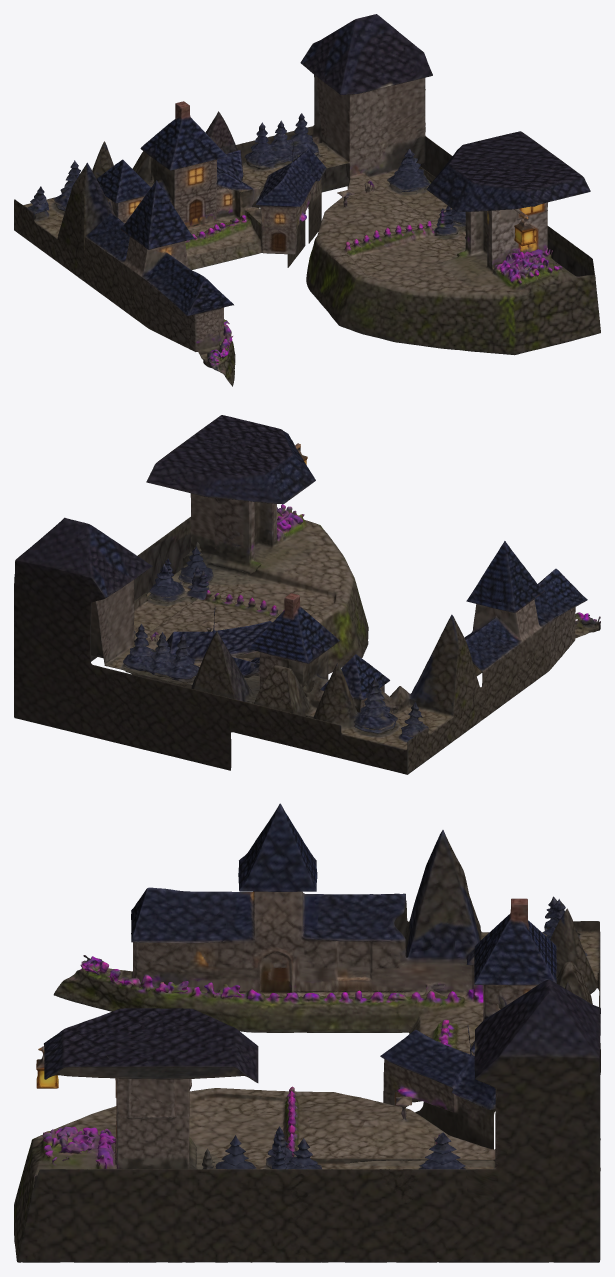
Rendered from cenario.glb.
3 renders of one model, top to bottom at view 1: azimuth 30°, elevation 25°; view 2: azimuth 150°, elevation 25°; view 3: azimuth 270°, elevation 25°, orthographic. The views are drawn at different scales.
Bounding box in the file's own units: 1.9 × 0.9283 × 1.9.
1 material, 1 textured.
